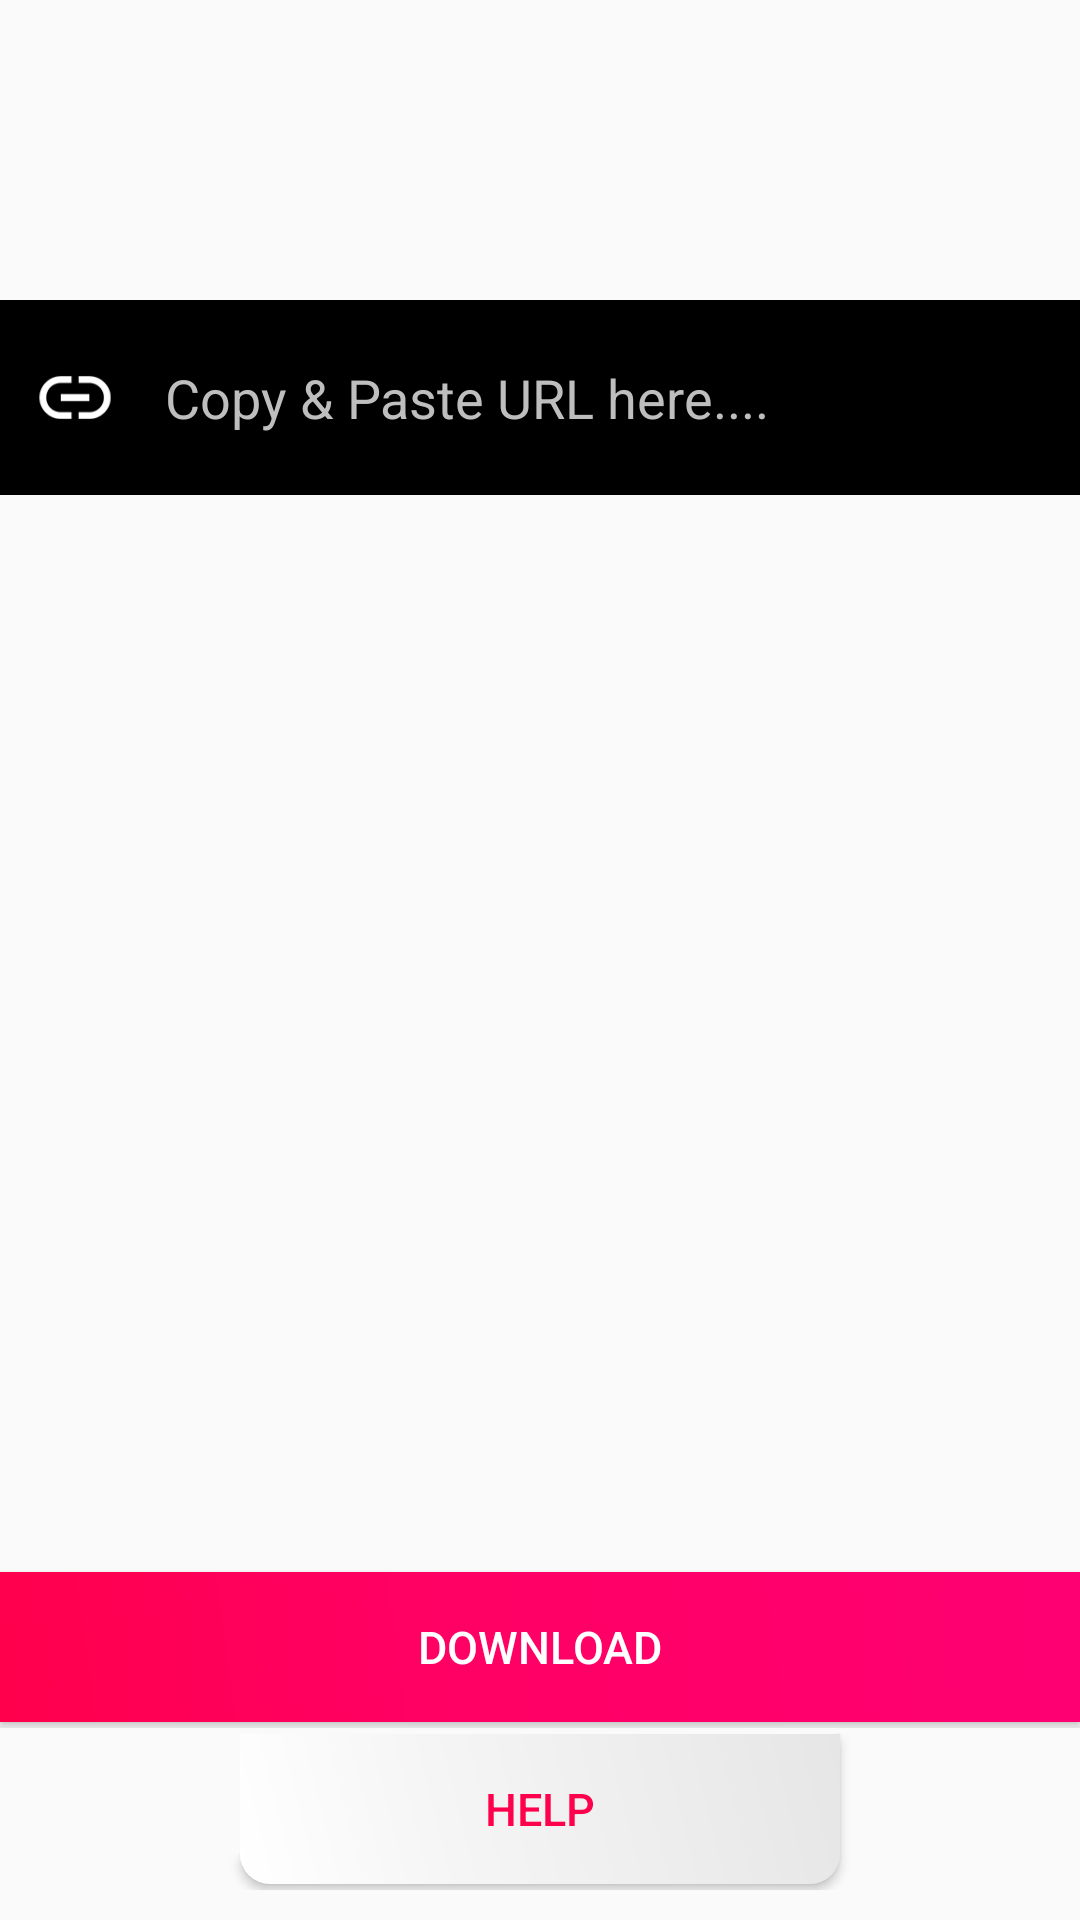

Where to tap for icons on this 1080x1920 app screen, as (x,y):
linkbutton: (75,397)
